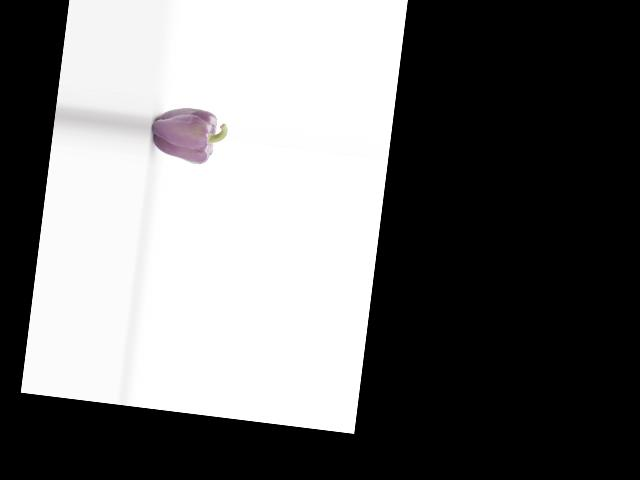bell_pepper: (149, 97, 229, 171)
